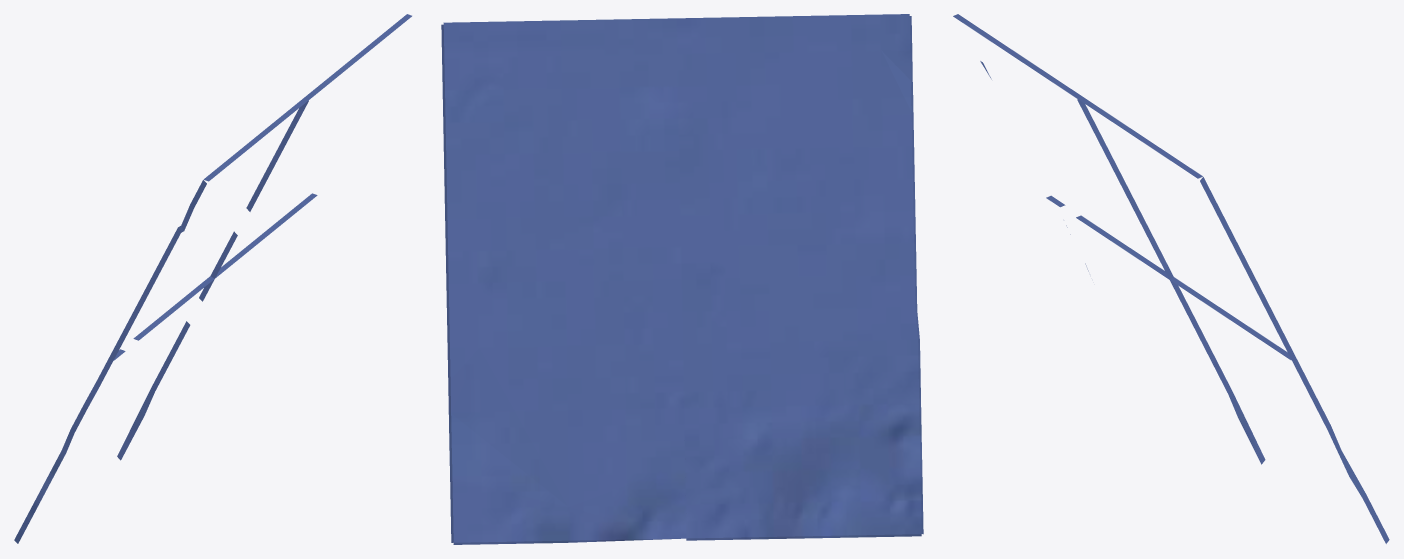
3 views of the same model, side by side, from view 1: azimuth 30°, elevation 25°; view 2: azimuth 150°, elevation 25°; view 3: azimuth 270°, elevation 25° (orthographic). The views are drawn at different scales.
Bounding box in the file's own units: 39350 × 35694 × 33814.
1 material, 1 textured.
